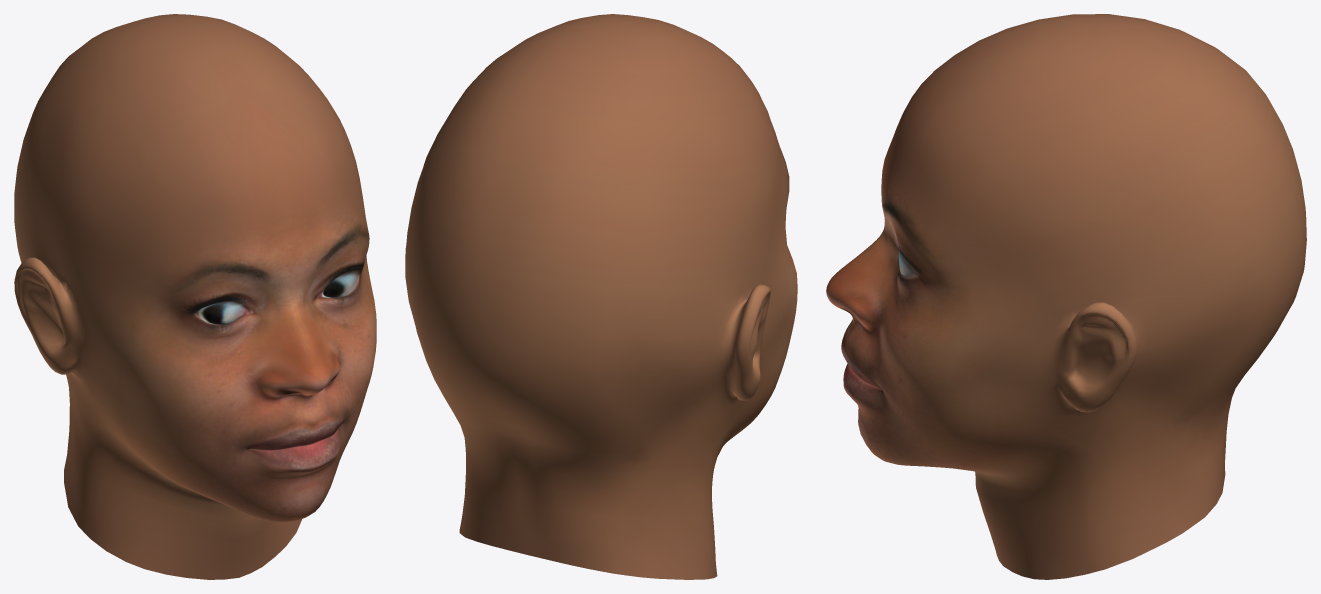
Rendered from v332_obj_ModifierLookRight.obj.
The picture shows the model from 3 angles, left to right: view 1: azimuth 30°, elevation 25°; view 2: azimuth 150°, elevation 25°; view 3: azimuth 270°, elevation 25°; orthographic projection. The views are drawn at different scales.
Parts seen in each view (by area): view 1: HeadHires; view 2: HeadHires; view 3: HeadHires.
Part boxes in pixels (box(x1,y1,x2,y2)): HeadHires: box(14, 14, 376, 579); HeadHires: box(405, 14, 797, 579); HeadHires: box(826, 14, 1306, 579).
Size of the model in its own units: 187 by 282 by 233.
